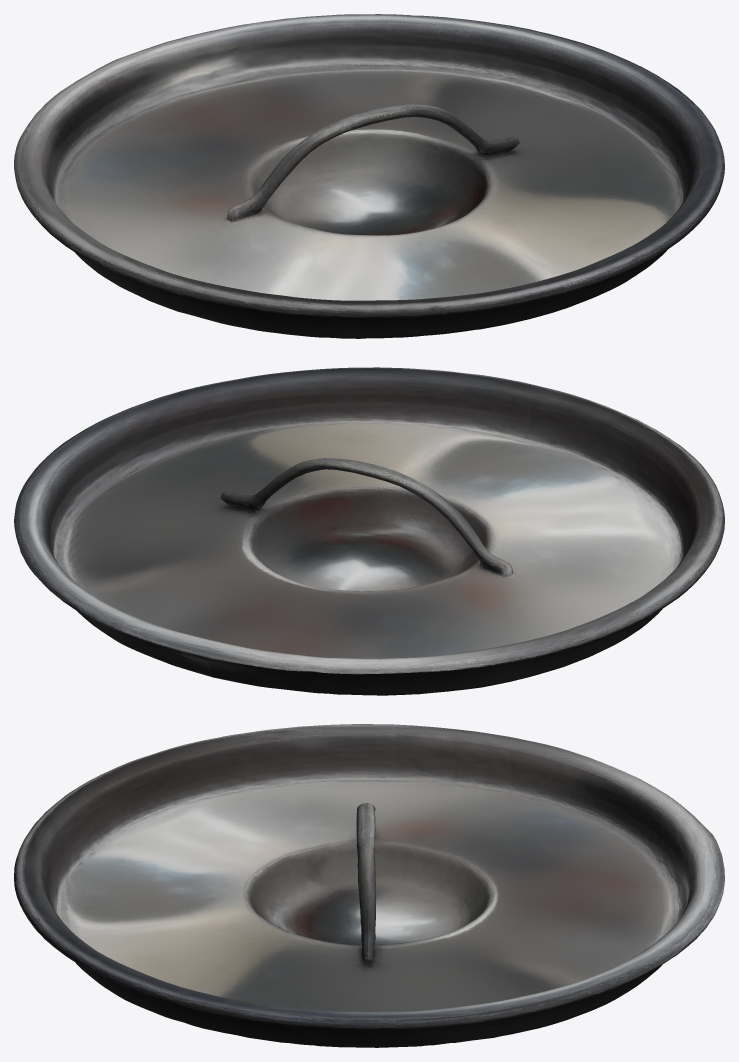
3 views of the same model, one above another, from view 1: azimuth 30°, elevation 25°; view 2: azimuth 150°, elevation 25°; view 3: azimuth 270°, elevation 25° (orthographic).
Visible parts, largest first — view 1: geometry_0; view 2: geometry_0; view 3: geometry_0.
Boxes of the visible parts, x1,y1,x2,y2 form: geometry_0: (14,14,724,338); geometry_0: (14,367,724,695); geometry_0: (14,724,724,1047).
Bounding box in the file's own units: 0.1271 × 0.0221 × 0.1275.
Materials: 1 (1 with a texture image).
